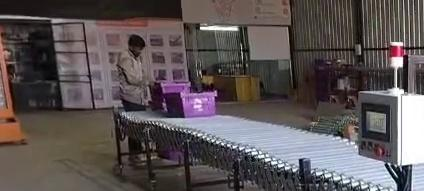box: (165, 91, 216, 117)
